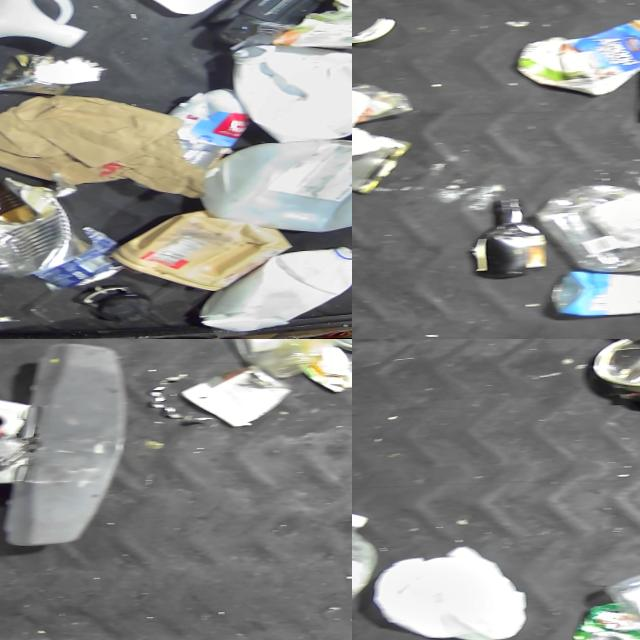can: (0, 176, 101, 285), (40, 227, 135, 290), (352, 131, 416, 197), (0, 54, 81, 98), (588, 339, 640, 404), (572, 606, 640, 640), (181, 140, 231, 169)
milk_jug: (367, 547, 539, 640), (204, 140, 352, 237), (203, 249, 352, 335), (231, 43, 352, 147)
non_white_jug: (534, 183, 640, 275)
plastic_bottle: (352, 508, 383, 626)
